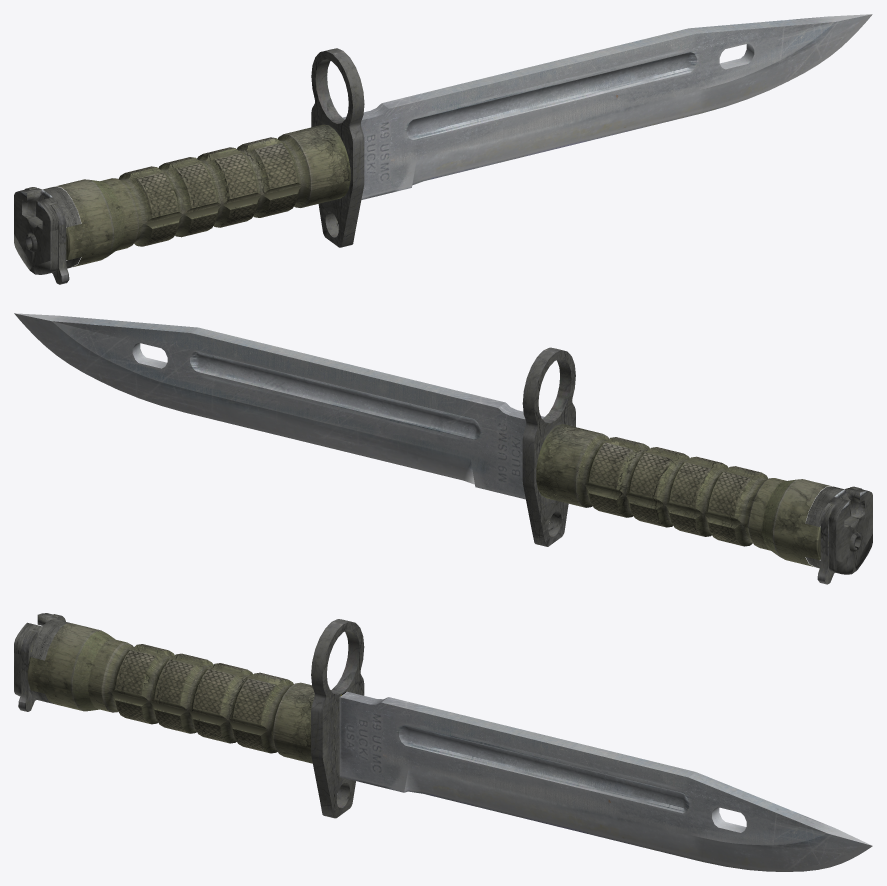
The model's file is weapon_knife_bayonetV2.glb.
The picture shows the model from 3 angles, top to bottom: view 1: azimuth 30°, elevation 25°; view 2: azimuth 150°, elevation 25°; view 3: azimuth 330°, elevation 25°; orthographic projection.
Parts seen in each view (by area): view 1: weapon_knife_bayonet.vmdl_c.body_legacy; view 2: weapon_knife_bayonet.vmdl_c.body_legacy; view 3: weapon_knife_bayonet.vmdl_c.body_legacy.
Part boxes in pixels (left/top/right/bottom): weapon_knife_bayonet.vmdl_c.body_legacy: left=14, top=14, right=872, bottom=284; weapon_knife_bayonet.vmdl_c.body_legacy: left=14, top=313, right=872, bottom=584; weapon_knife_bayonet.vmdl_c.body_legacy: left=14, top=613, right=872, bottom=871.
Bounding box in the file's own units: 11.95 × 2.56 × 1.07.
1 material, 1 textured.
